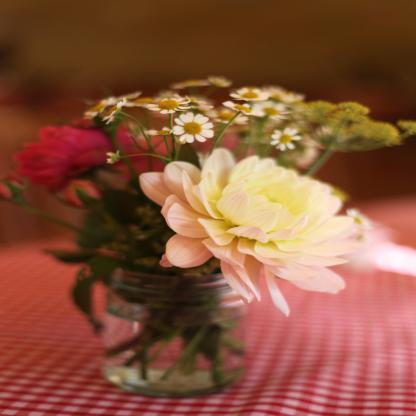vase: (102, 262, 245, 398)
